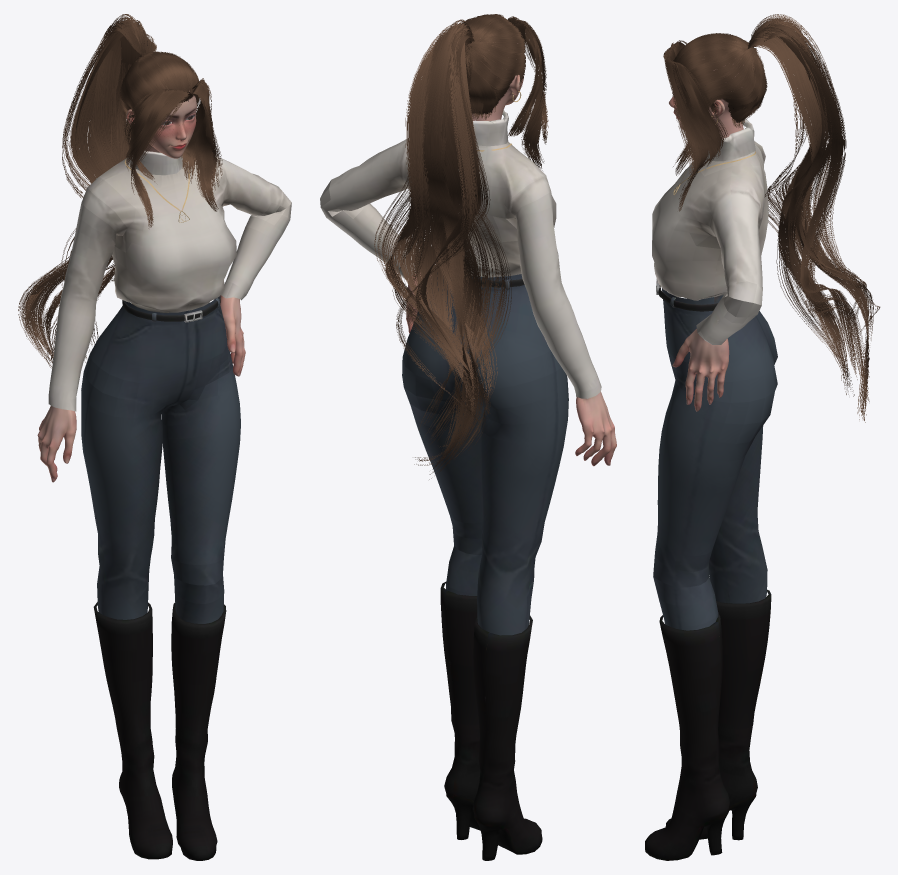
Rendered from businesslady.glb.
3 views of the same model, side by side, from view 1: azimuth 30°, elevation 25°; view 2: azimuth 150°, elevation 25°; view 3: azimuth 270°, elevation 25° (orthographic). The views are drawn at different scales.
Parts seen in each view (by area): view 1: SK_BUSINESSLADY_PANTS_for_boots, SK_BUSINESSLADY_SWEATER, SK_BUSINESSLADY_BOOTS, SK_BUSINESSLADY_HAIR_02, SK_BUSINESSLADY_HAIR_02_BANGS, SK_BUSINESSLADY_BODY_PART_03, SK_BUSINESSLADY_HEAD, SK_BUSINESSLADY_BELT; view 2: SK_BUSINESSLADY_HAIR_02, SK_BUSINESSLADY_PANTS_for_boots, SK_BUSINESSLADY_SWEATER, SK_BUSINESSLADY_BOOTS, SK_BUSINESSLADY_HAIR_02_BANGS, SK_BUSINESSLADY_BODY_PART_03, SK_BUSINESSLADY_HEAD; view 3: SK_BUSINESSLADY_PANTS_for_boots, SK_BUSINESSLADY_HAIR_02, SK_BUSINESSLADY_BOOTS, SK_BUSINESSLADY_SWEATER, SK_BUSINESSLADY_HAIR_02_BANGS, SK_BUSINESSLADY_BODY_PART_03, SK_BUSINESSLADY_HEAD.
Boxes of the visible parts, x1=… form: SK_BUSINESSLADY_PANTS_for_boots: x1=81, y1=297, x2=240, y2=623; SK_BUSINESSLADY_SWEATER: x1=48, y1=138, x2=291, y2=411; SK_BUSINESSLADY_BOOTS: x1=93, y1=602, x2=226, y2=860; SK_BUSINESSLADY_HAIR_02: x1=18, y1=14, x2=199, y2=368; SK_BUSINESSLADY_HAIR_02_BANGS: x1=123, y1=78, x2=222, y2=228; SK_BUSINESSLADY_BODY_PART_03: x1=37, y1=295, x2=245, y2=482; SK_BUSINESSLADY_HEAD: x1=126, y1=91, x2=196, y2=158; SK_BUSINESSLADY_BELT: x1=122, y1=295, x2=220, y2=322; SK_BUSINESSLADY_HAIR_02: x1=374, y1=14, x2=525, y2=479; SK_BUSINESSLADY_PANTS_for_boots: x1=402, y1=272, x2=568, y2=635; SK_BUSINESSLADY_SWEATER: x1=320, y1=110, x2=601, y2=398; SK_BUSINESSLADY_BOOTS: x1=440, y1=582, x2=542, y2=860; SK_BUSINESSLADY_HAIR_02_BANGS: x1=476, y1=14, x2=548, y2=170; SK_BUSINESSLADY_BODY_PART_03: x1=406, y1=273, x2=616, y2=466; SK_BUSINESSLADY_HEAD: x1=472, y1=38, x2=523, y2=121; SK_BUSINESSLADY_PANTS_for_boots: x1=653, y1=285, x2=777, y2=630; SK_BUSINESSLADY_HAIR_02: x1=673, y1=14, x2=880, y2=422; SK_BUSINESSLADY_BOOTS: x1=645, y1=589, x2=771, y2=860; SK_BUSINESSLADY_SWEATER: x1=652, y1=118, x2=768, y2=344; SK_BUSINESSLADY_HAIR_02_BANGS: x1=663, y1=40, x2=727, y2=211; SK_BUSINESSLADY_BODY_PART_03: x1=672, y1=329, x2=729, y2=411; SK_BUSINESSLADY_HEAD: x1=669, y1=65, x2=743, y2=138.
Bounding box in the file's own units: 0.6372 × 1.88 × 0.4908.
Materials: 7 (6 with a texture image).
